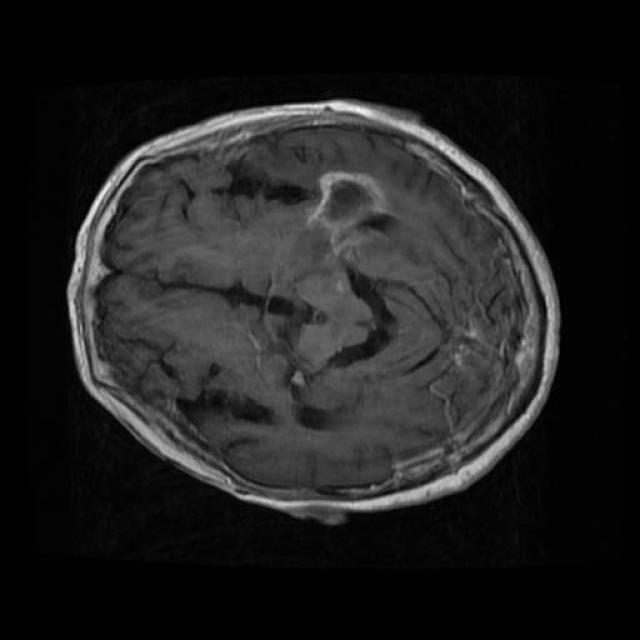Glioma: (315, 171, 386, 226)
